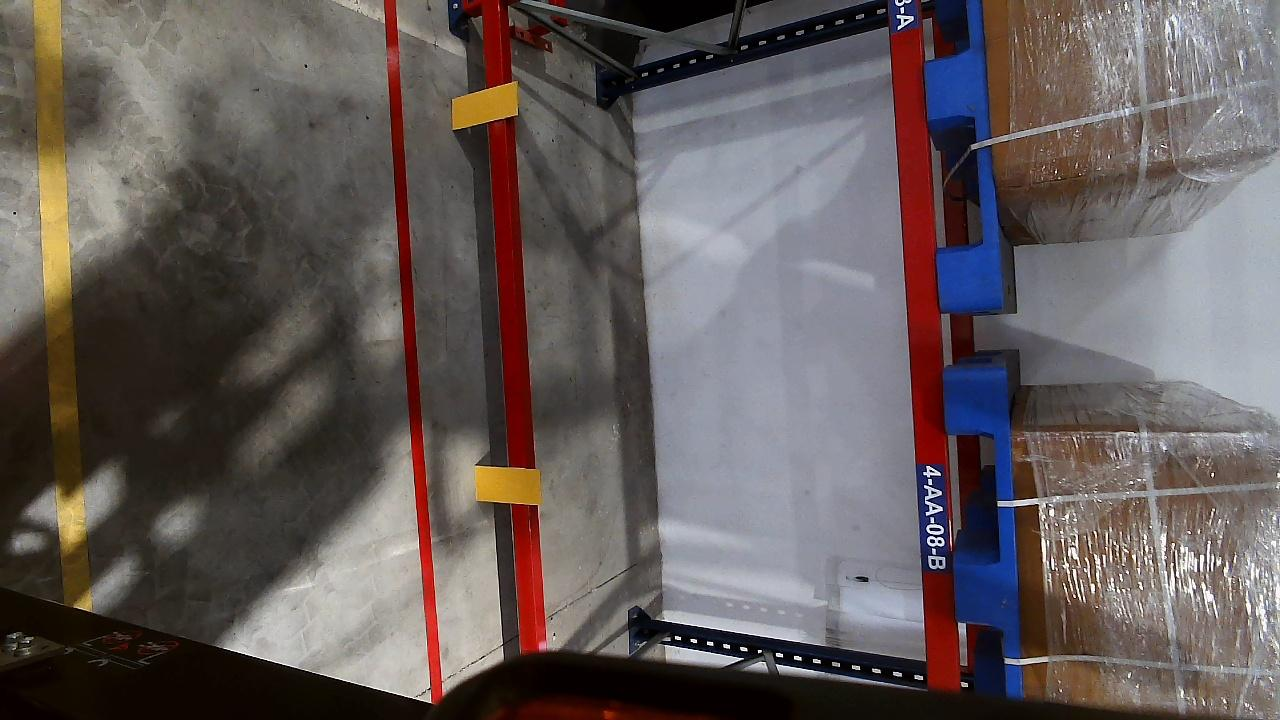h_rack: (476, 2, 559, 654), (878, 0, 954, 680)
orange_strip: (451, 82, 520, 128), (473, 466, 540, 505)
red_line: (374, 0, 442, 698)
small_pallet: (913, 1, 1008, 306), (942, 380, 1028, 690)
yellow_line: (28, 0, 86, 602)
